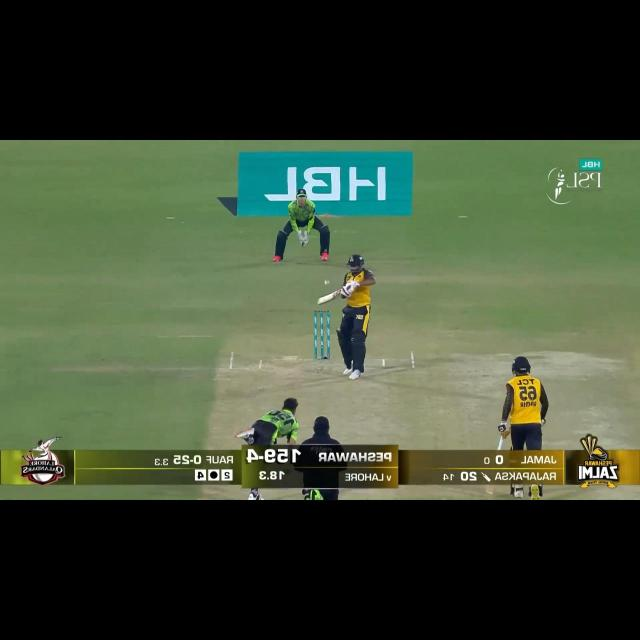bat: (314, 291, 342, 306)
toe: (318, 295, 323, 306)
